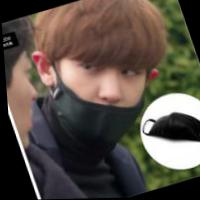NONE: (4, 53, 61, 153)
WRONG: (36, 23, 175, 156)
